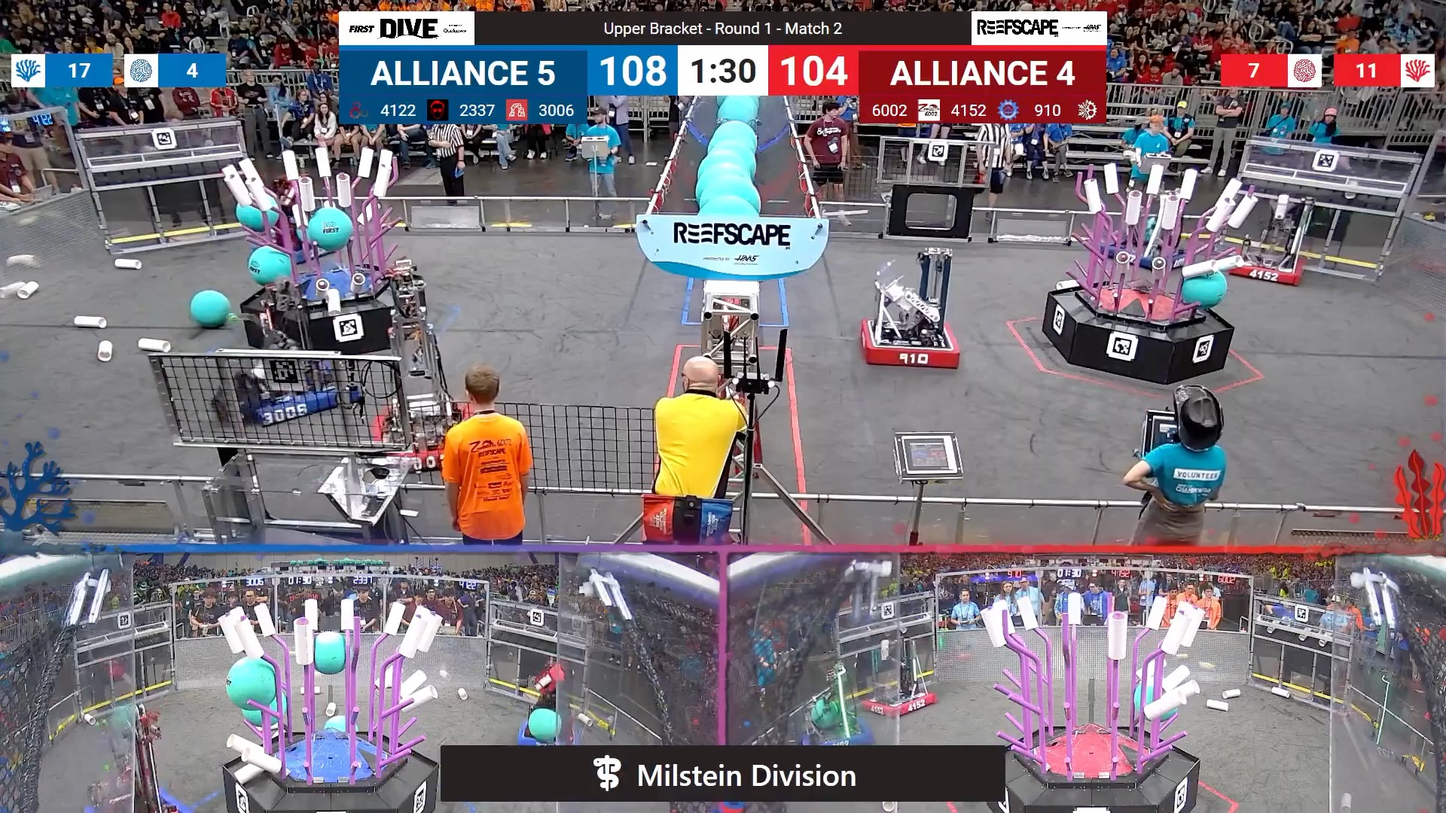bumpers: (219, 361, 356, 431), (852, 315, 970, 378), (362, 400, 455, 478), (1215, 248, 1314, 290), (860, 684, 941, 720), (76, 789, 197, 812)
